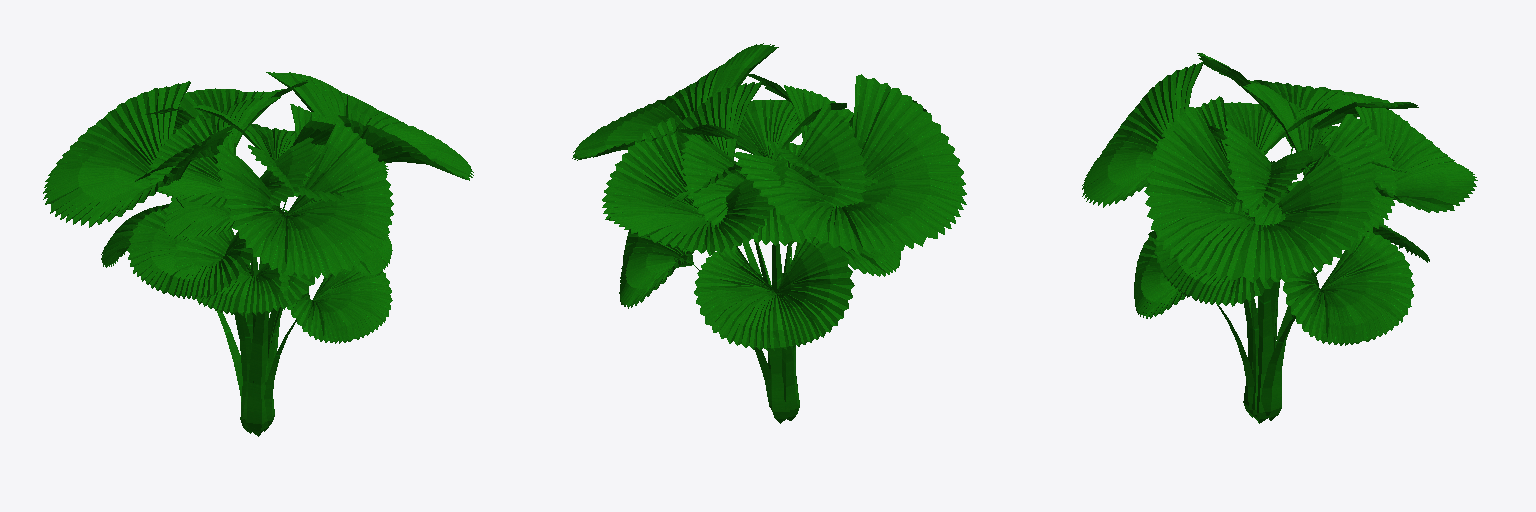
The picture shows the model from 3 angles: view 1: azimuth 30°, elevation 25°; view 2: azimuth 150°, elevation 25°; view 3: azimuth 270°, elevation 25°; orthographic projection.
Visible parts, largest first — view 1: Archmodels61_40_Licuala_Orbicularis; view 2: Archmodels61_40_Licuala_Orbicularis; view 3: Archmodels61_40_Licuala_Orbicularis.
Part boxes in pixels (bbox=[...]): Archmodels61_40_Licuala_Orbicularis: bbox=[43, 72, 473, 436]; Archmodels61_40_Licuala_Orbicularis: bbox=[572, 43, 966, 423]; Archmodels61_40_Licuala_Orbicularis: bbox=[1082, 53, 1477, 423].
Bounding box in the file's own units: 18.41 × 15.67 × 16.67.
Materials: 1 (1 with a texture image).